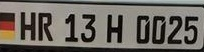character: (106, 12, 122, 44), (19, 10, 36, 40), (37, 10, 53, 41), (79, 12, 95, 42), (135, 14, 150, 44), (183, 14, 198, 44), (64, 13, 78, 43), (167, 15, 182, 43), (151, 15, 165, 44)
